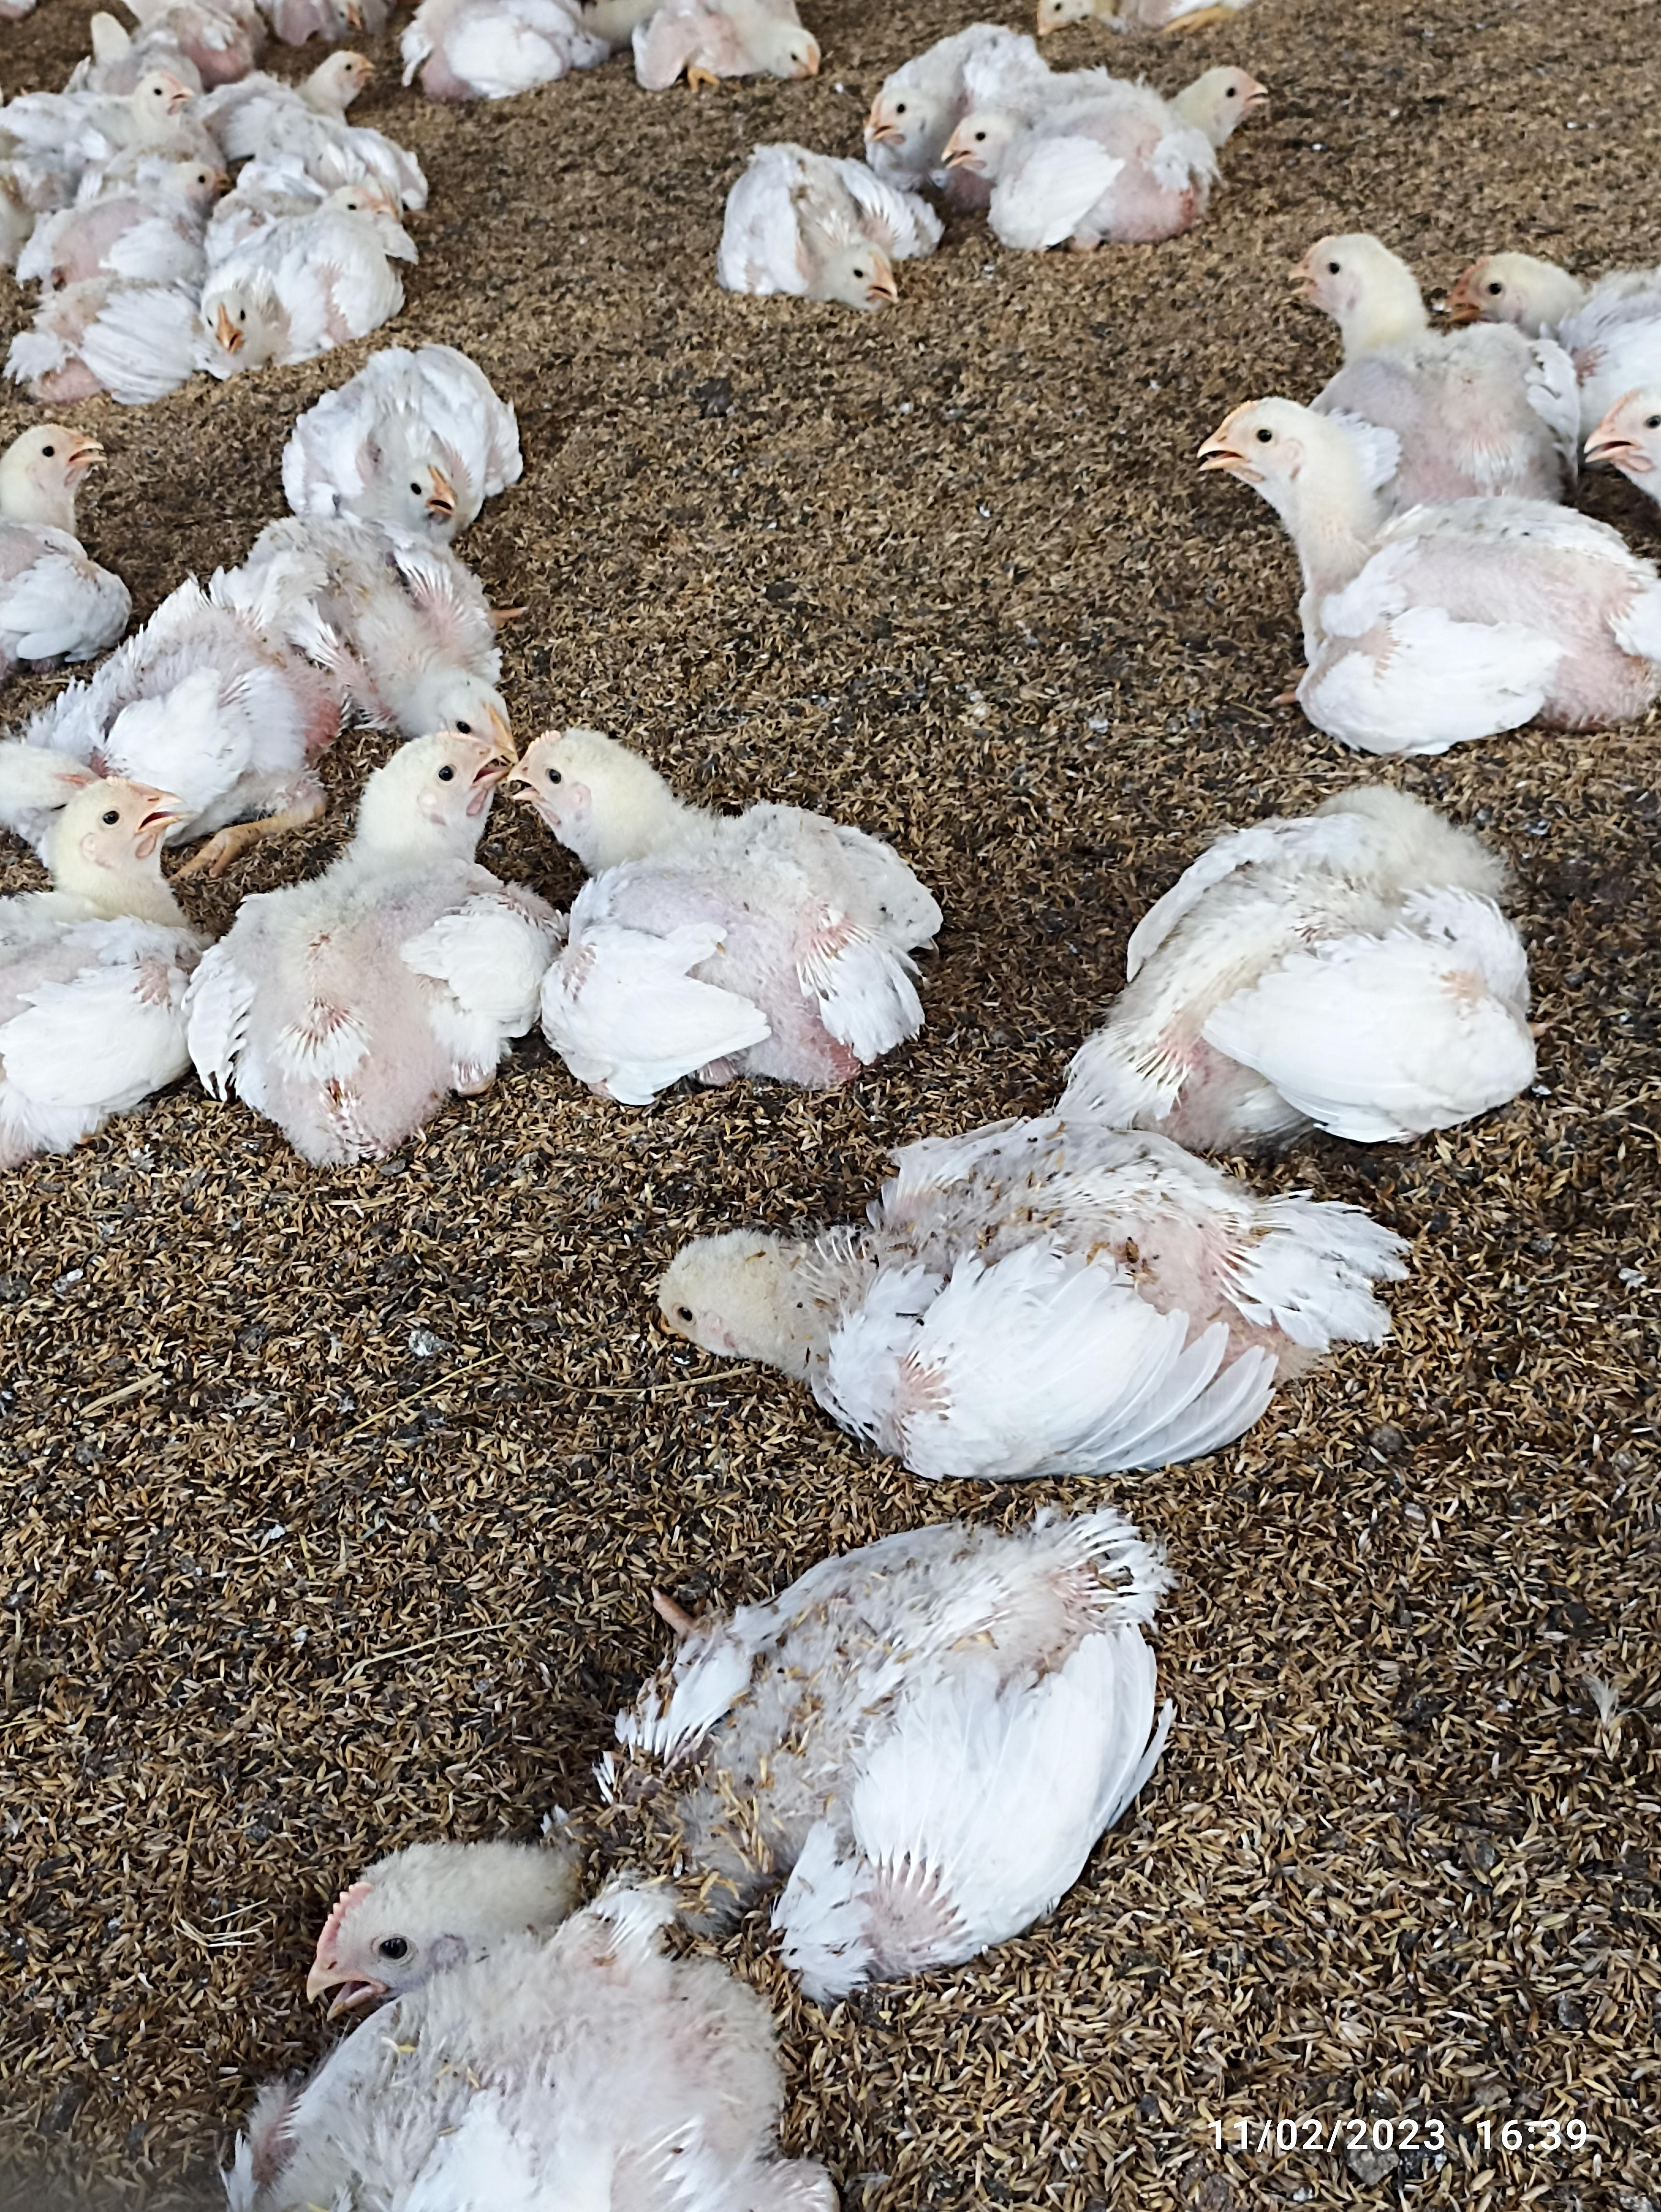Pollos: (309, 1518, 1179, 2017), (660, 1120, 1408, 1485), (1054, 782, 1527, 1127), (504, 715, 946, 1085), (1206, 394, 1661, 752), (190, 727, 529, 1143), (19, 769, 190, 1183), (298, 344, 522, 525), (946, 101, 1230, 232), (728, 145, 956, 300), (187, 202, 382, 384), (0, 419, 143, 665), (1288, 220, 1480, 401)
